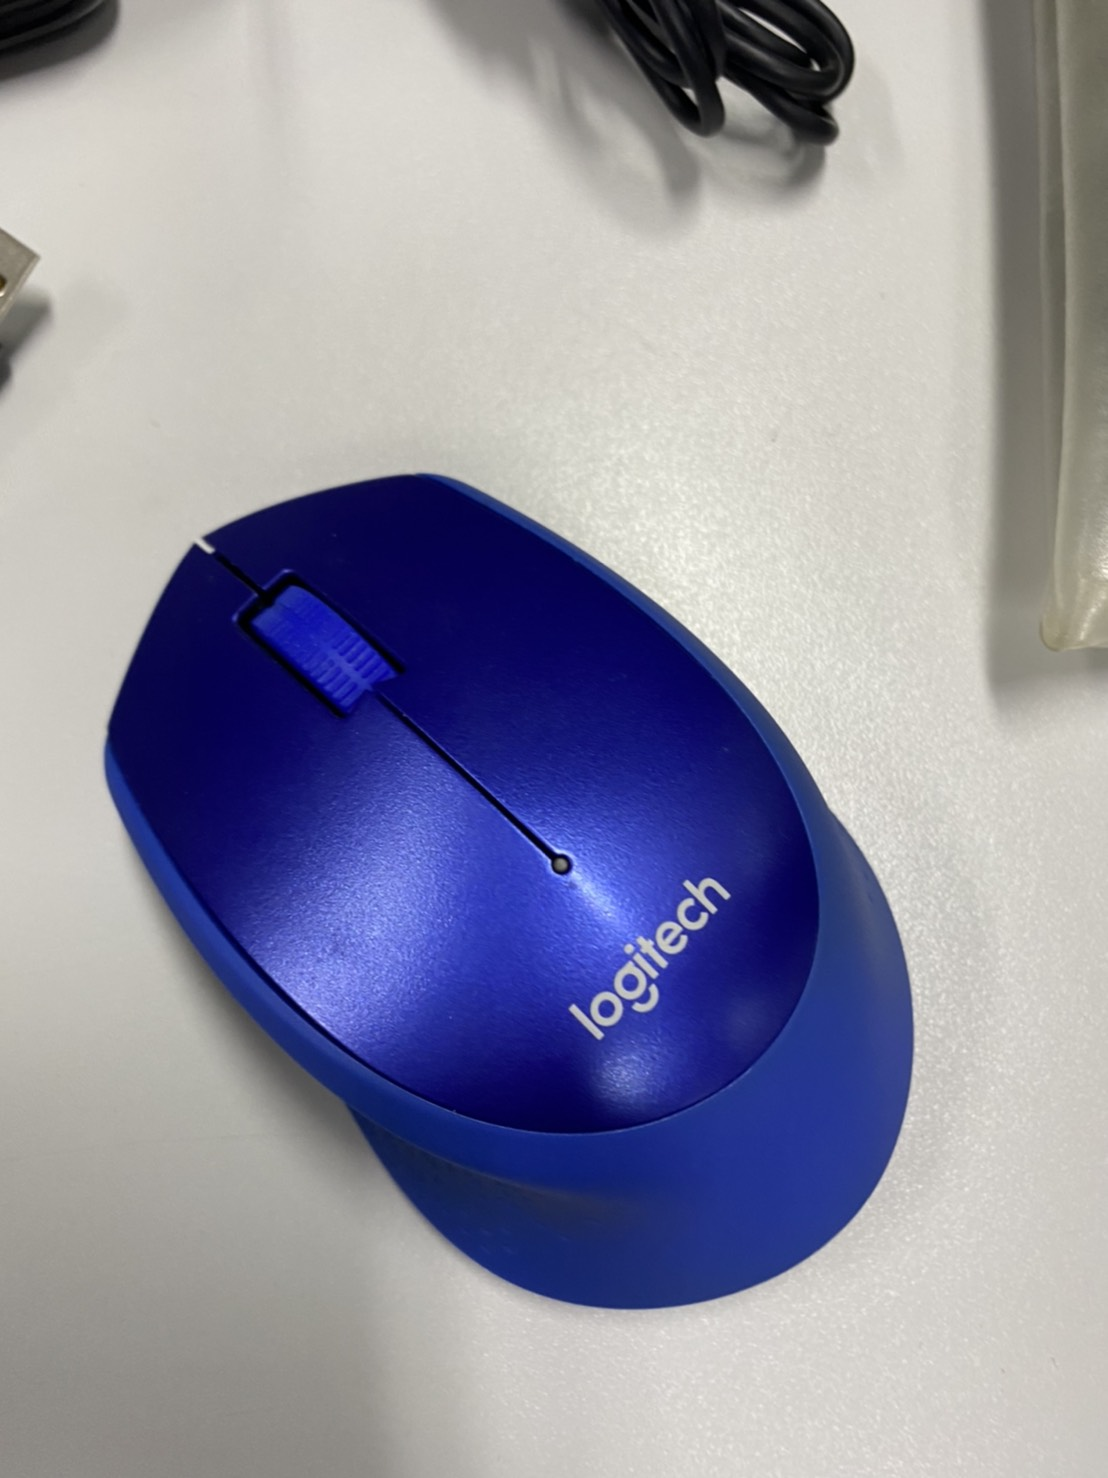mouse: (101, 464, 914, 1313)
